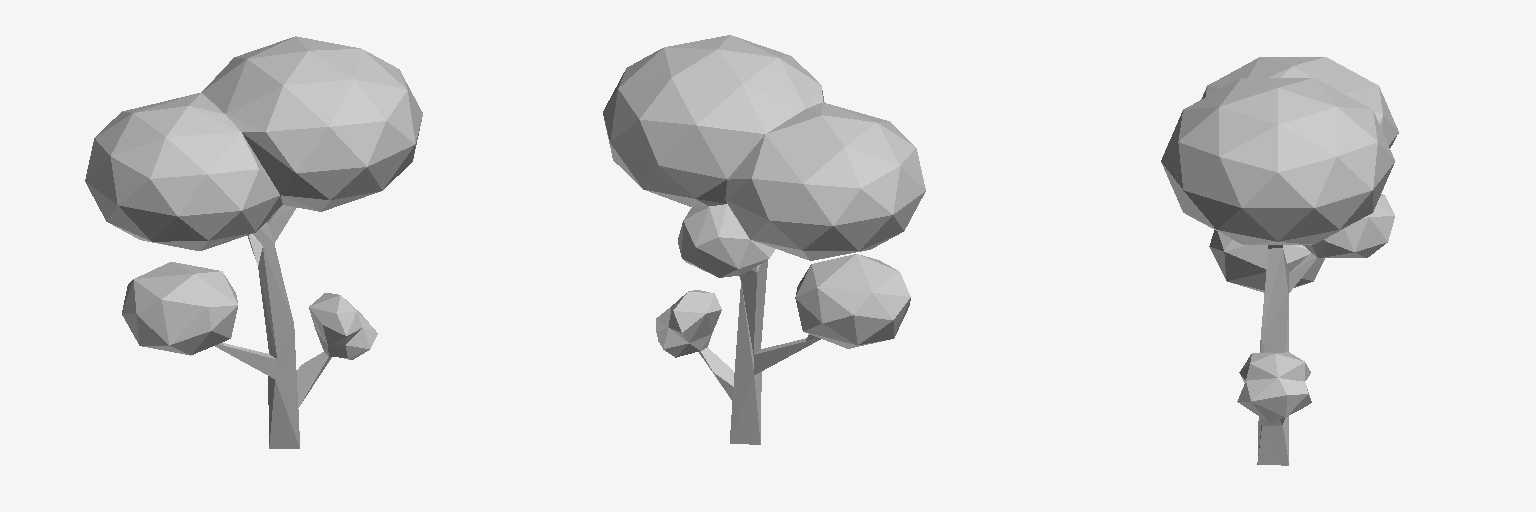
The model's file is Tree5.obj.
3 renders of one model, left to right at view 1: azimuth 30°, elevation 25°; view 2: azimuth 150°, elevation 25°; view 3: azimuth 270°, elevation 25°, orthographic.
Parts seen in each view (by area): view 1: Tree_Icosphere.007; view 2: Tree_Icosphere.007; view 3: Tree_Icosphere.007.
Boxes of the visible parts, box(x1,y1,x2,y2) form: Tree_Icosphere.007: box(85, 36, 422, 448); Tree_Icosphere.007: box(603, 35, 925, 444); Tree_Icosphere.007: box(1161, 57, 1398, 465).
Size of the model in its own units: 14.61 by 18.22 by 10.18.